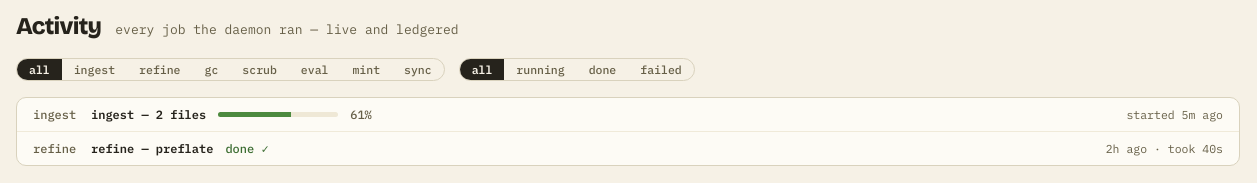
Scenario: kind and state filters narrow the list; a dry filter says so
This screenshot has width=1257, height=183.
Step 1. Click the button "refine" → click(160, 70), box [127, 59, 192, 80]
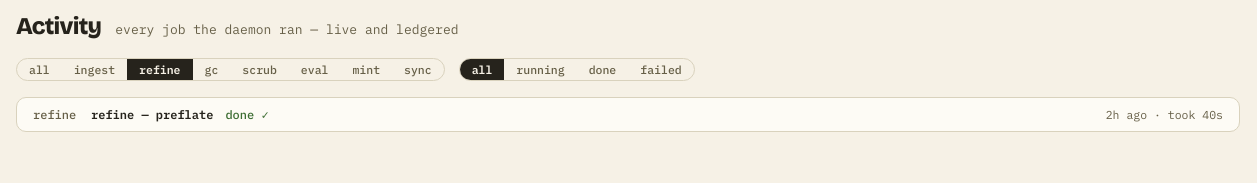
Expected: the text "refine — preflate" is shown, [91, 107, 213, 122]
Result: the button "ingest — 2 files" is gone
Step 2. Click the button "running" → click(541, 70), box [504, 59, 577, 80]
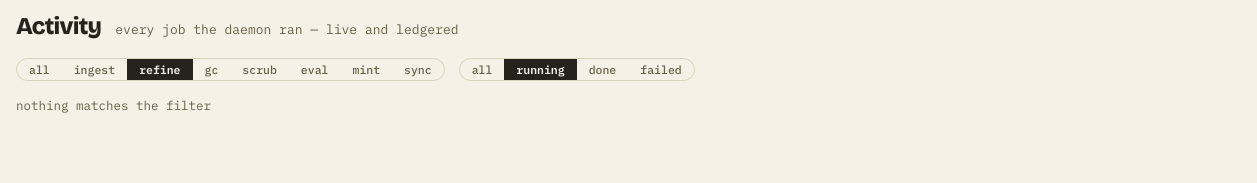
Result: the text "nothing matches the filter" is shown at [16, 97, 211, 113]
